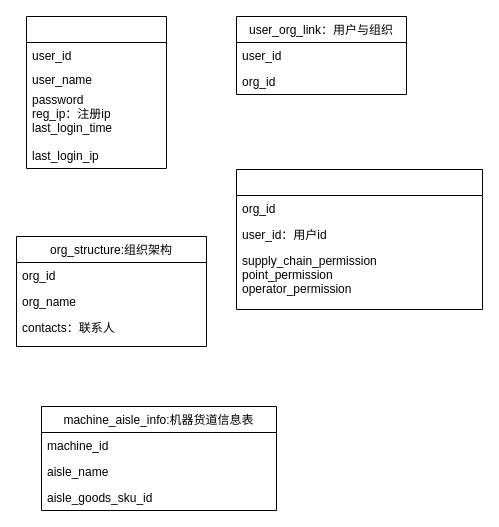
Image size: 499x527. Some labels were removed from this diagram. Here are the shapes that lost their labels. From the top down, the box of each, then its label:
(26, 16, 166, 168): user_info：用户表
(236, 168, 482, 310): org_platform_permission:机构平台权限
